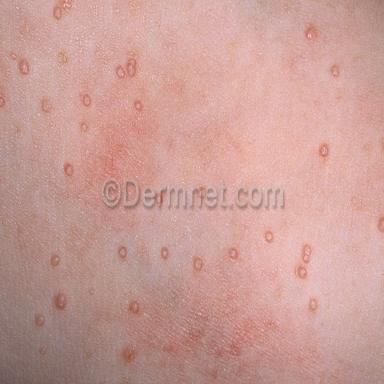Molluscum-Contagiosum: (55, 292, 67, 310), (126, 58, 137, 77), (305, 25, 318, 40), (41, 99, 53, 114), (19, 60, 29, 75), (303, 245, 311, 263), (129, 300, 139, 314), (319, 143, 329, 157), (35, 314, 45, 327), (330, 64, 340, 77), (115, 65, 125, 78), (119, 245, 127, 260), (194, 258, 203, 271), (265, 230, 274, 243), (298, 266, 307, 279), (65, 163, 73, 177), (228, 248, 238, 259), (51, 253, 59, 266), (161, 246, 169, 259), (53, 6, 61, 19), (83, 94, 90, 107), (134, 101, 143, 111), (80, 122, 88, 133), (310, 299, 317, 310), (39, 346, 47, 355), (0, 94, 5, 108), (89, 287, 95, 296)
